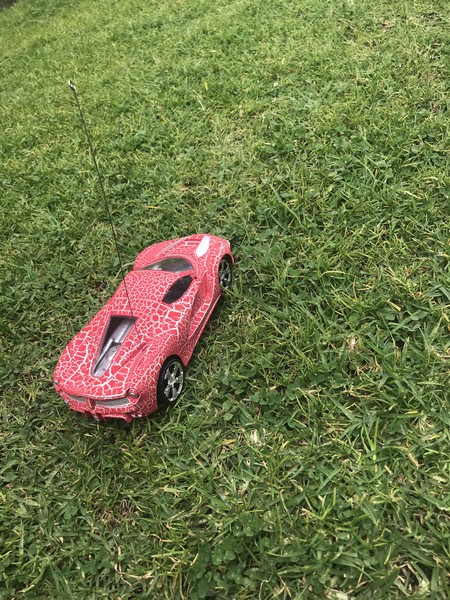RC: (52, 231, 237, 426)
